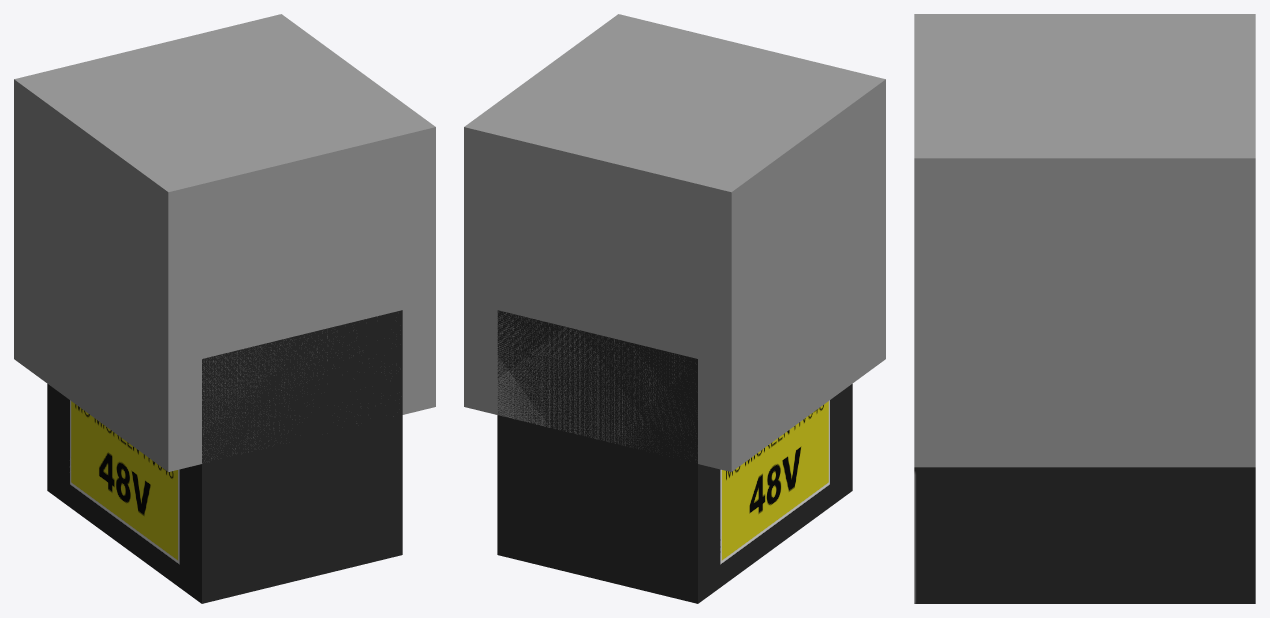
The model's file is HighVoltageBattery.obj.
3 views of the same model, side by side, from view 1: azimuth 30°, elevation 25°; view 2: azimuth 150°, elevation 25°; view 3: azimuth 270°, elevation 25° (orthographic). The views are drawn at different scales.
Visible parts, largest first — view 1: Minecraft_Block_Cube, Battery, Minecraft_2_Edge_Connectivity_Cube.002; view 2: Minecraft_Block_Cube, Battery, Minecraft_2_Edge_Connectivity_Cube.002; view 3: Minecraft_Block_Cube, Battery.
Part boxes in pixels (x1,y1,x2,y2): Minecraft_Block_Cube: (14, 14, 435, 471); Battery: (47, 310, 402, 603); Minecraft_2_Edge_Connectivity_Cube.002: (169, 300, 435, 471); Minecraft_Block_Cube: (464, 14, 885, 471); Battery: (497, 310, 852, 603); Minecraft_2_Edge_Connectivity_Cube.002: (464, 300, 730, 471); Minecraft_Block_Cube: (914, 14, 1255, 467); Battery: (914, 467, 1255, 603).
Size of the model in its own units: 1 by 1.5 by 1.
2 materials, 1 textured.
